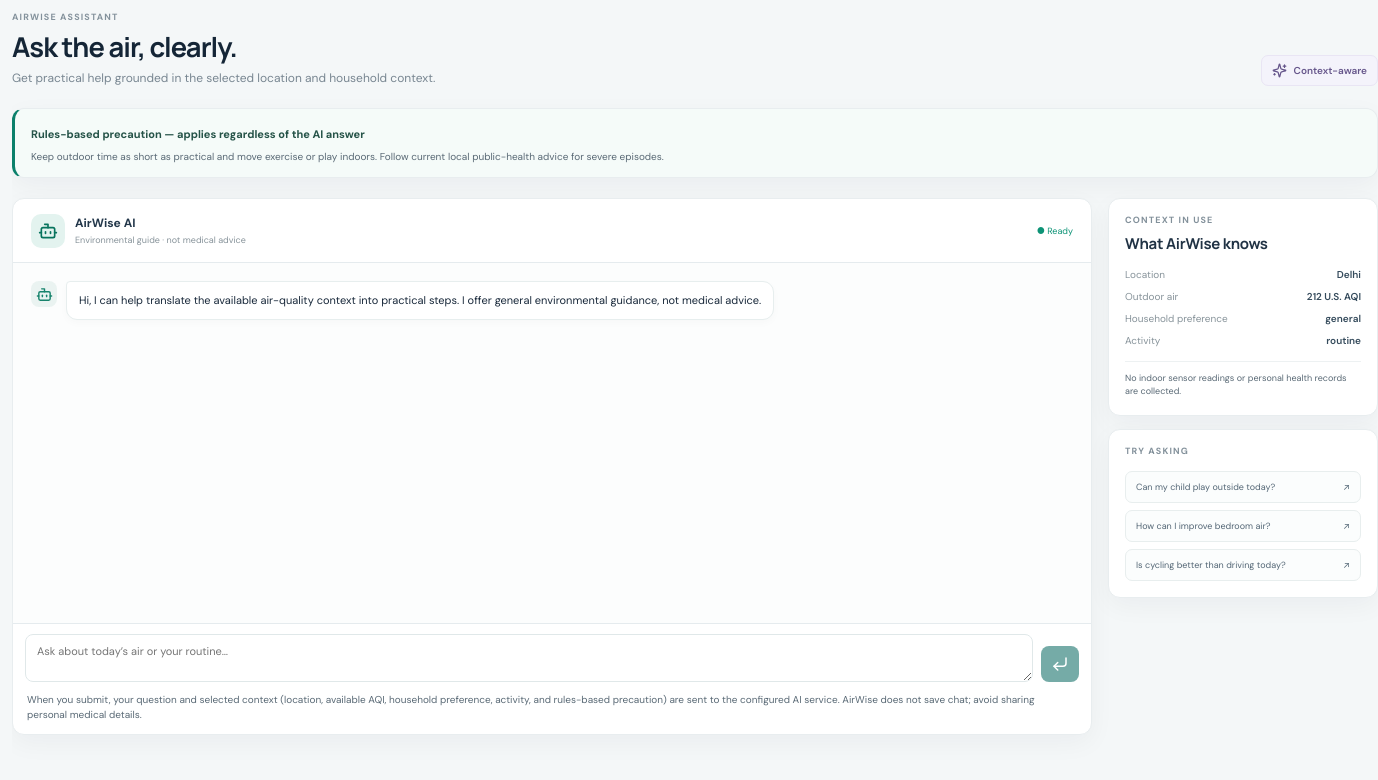
assistant context and request ordering › sends the actual AQI band to the assistant and labels live generated output
The image size is (1378, 780).
Type "What should my family do?" into the text box named "Ask a question" at (529, 658), box [25, 634, 1033, 682]
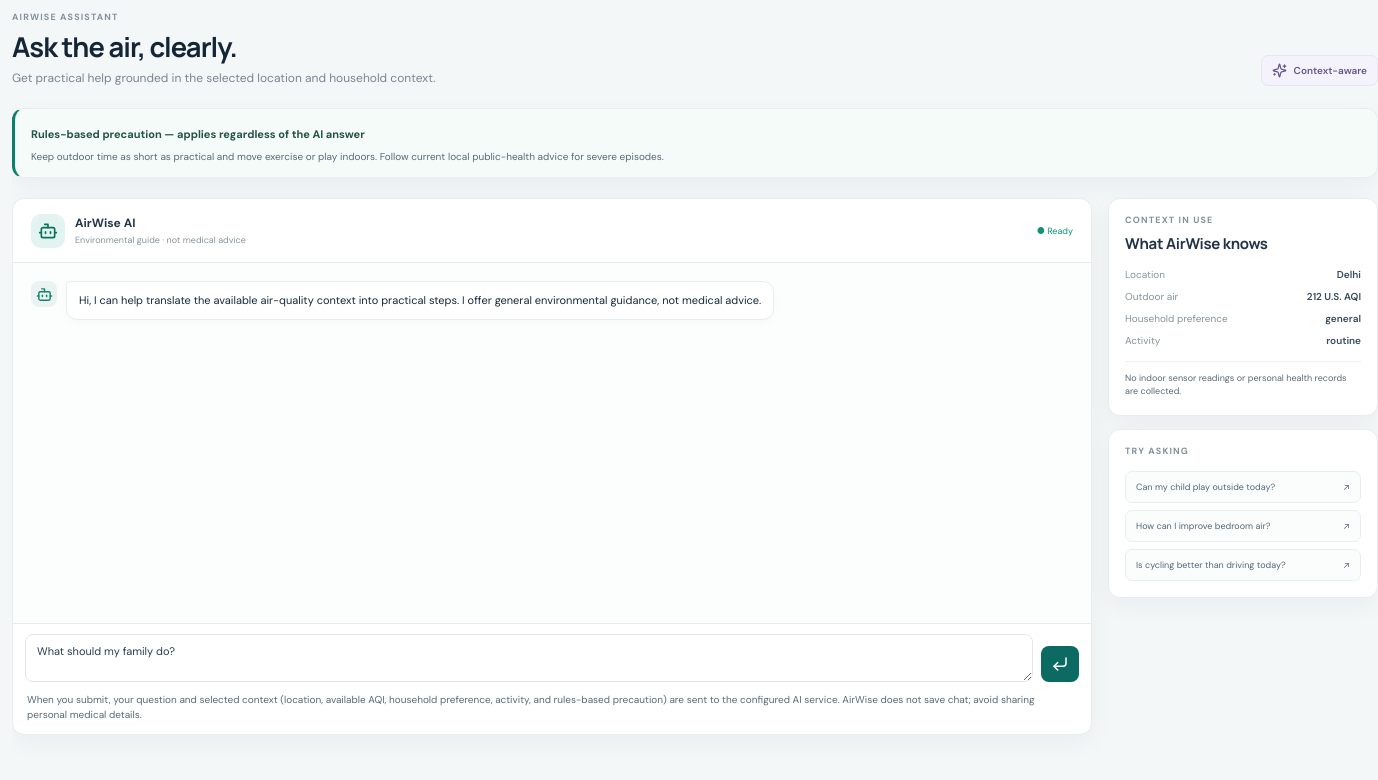
Click the button named "Send question" at (1060, 664), box [1041, 646, 1079, 682]
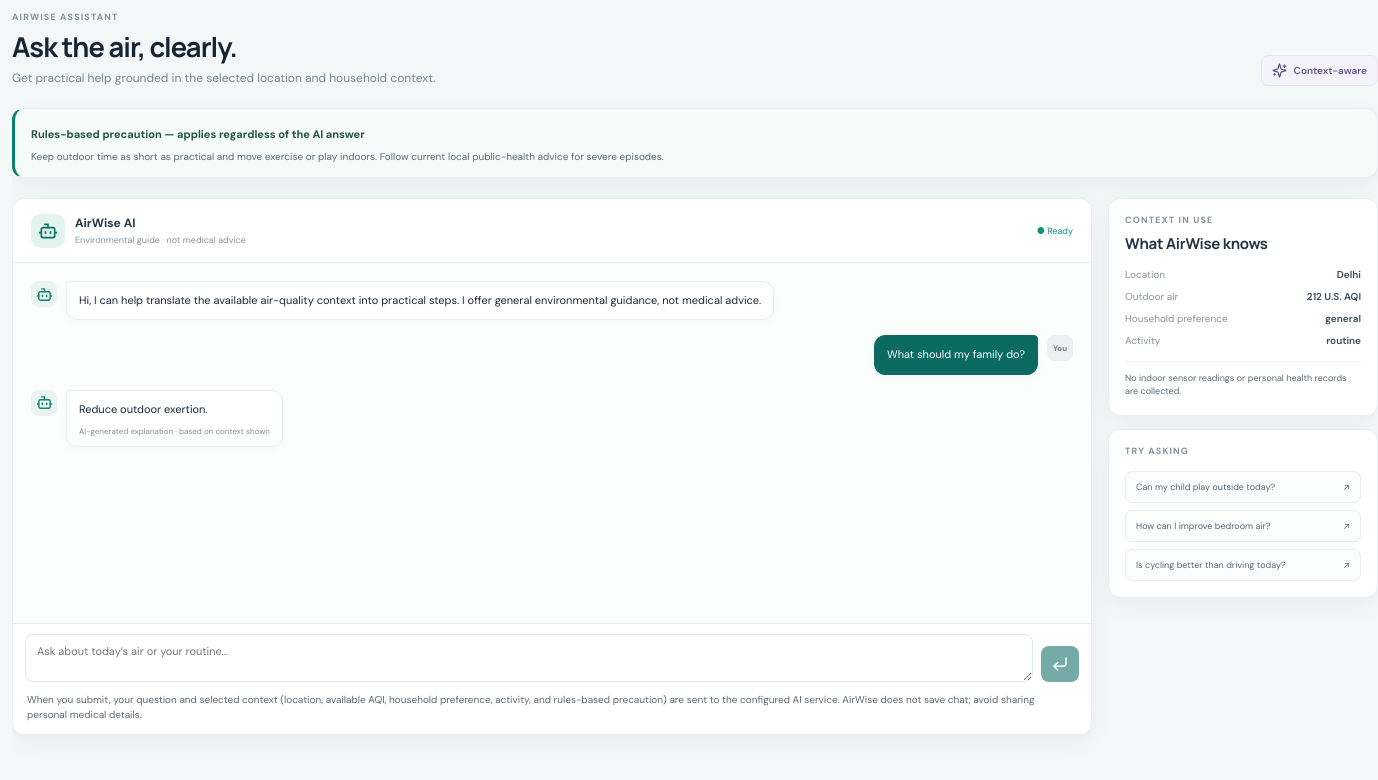
Expected: the element "Rules-based precaution" shows "Keep outdoor time as short as practical and move exercise or play indoors. Follow current local public-health advice for severe episodes.", [31, 150, 664, 163]
Result: the text "AI-generated explanation · based on context shown" is shown at [79, 426, 270, 436]
